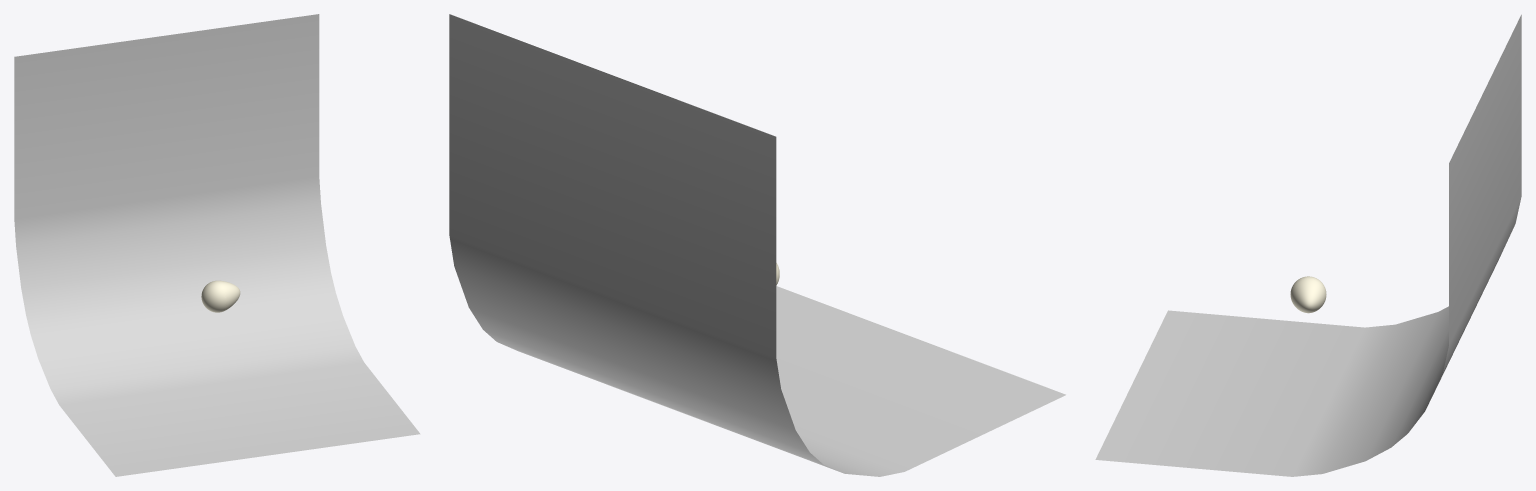
Rendered from egg2.gltf.
3 renders of one model, left to right at view 1: azimuth 30°, elevation 25°; view 2: azimuth 150°, elevation 25°; view 3: azimuth 270°, elevation 25°, orthographic. The views are drawn at different scales.
Parts seen in each view (by area): view 1: Cube, eggbottom; view 2: Cube; view 3: Cube, egg.top.
Boxes of the visible parts, left/top/right/bottom form: Cube: left=14, top=14, right=420, bottom=476; eggbottom: left=201, top=281, right=226, bottom=312; Cube: left=449, top=14, right=1065, bottom=476; Cube: left=1095, top=14, right=1521, bottom=476; egg.top: left=1290, top=277, right=1326, bottom=313.
Bounding box in the file's own units: 23.67 × 20.05 × 23.67.
